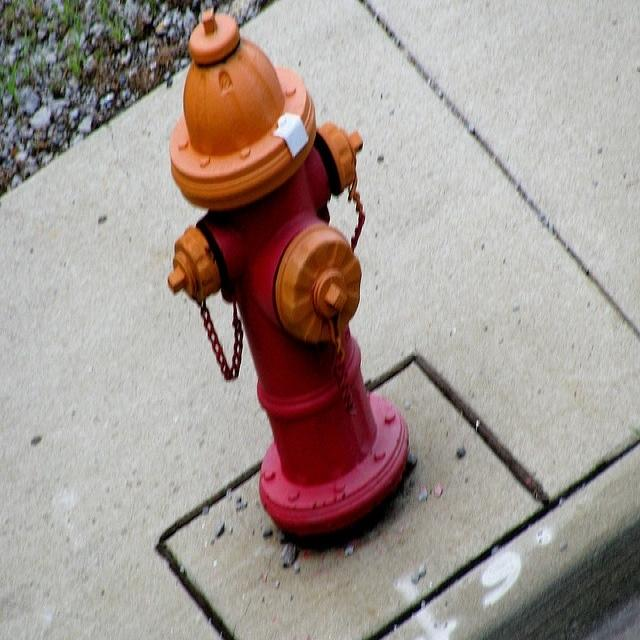fire_hydrant: (160, 34, 424, 536)
